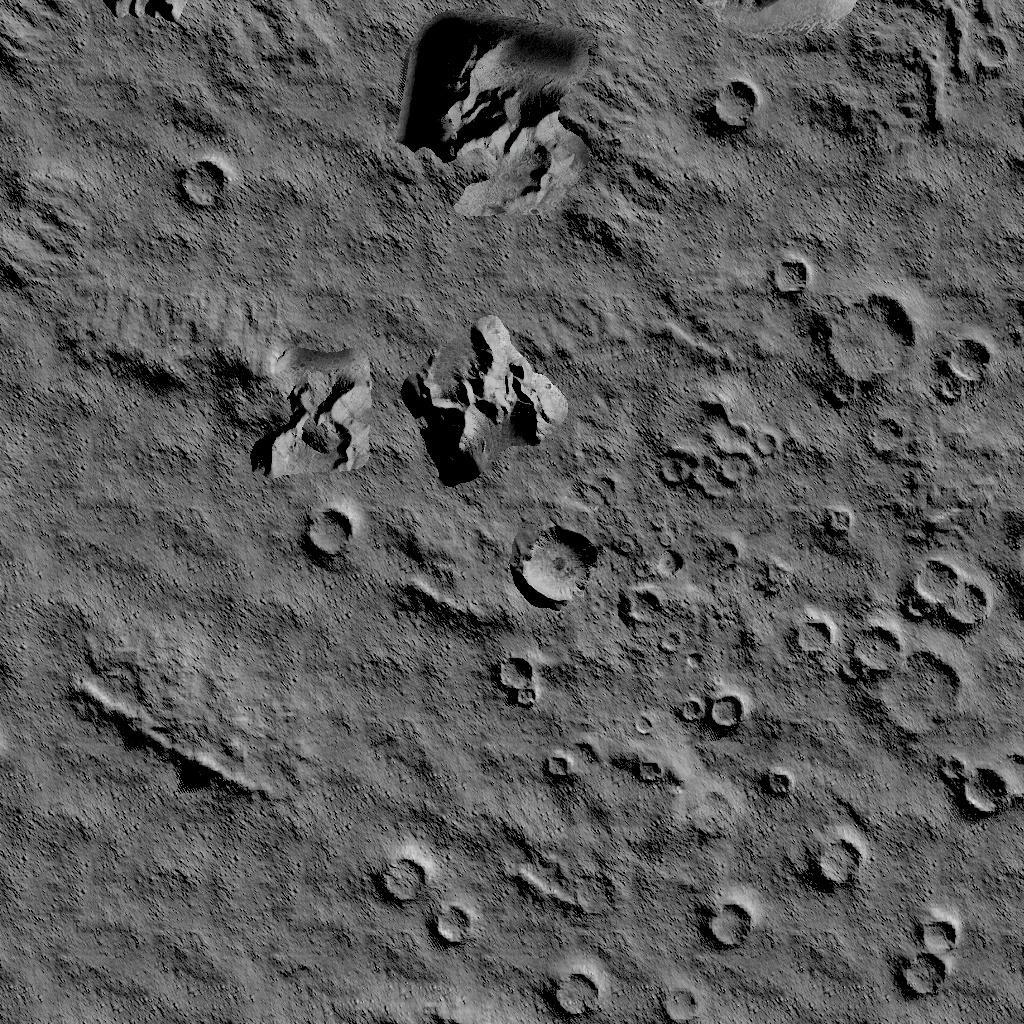Boulders: (392, 16, 664, 222), (397, 310, 569, 486), (69, 650, 271, 796), (38, 296, 236, 394), (586, 756, 744, 859), (253, 346, 374, 478), (0, 0, 192, 77), (400, 518, 496, 624), (208, 2, 334, 82), (593, 300, 752, 360), (484, 818, 564, 900), (0, 244, 67, 284)
Crater: (850, 619, 966, 737), (656, 392, 771, 498), (826, 286, 918, 384), (509, 520, 601, 608), (938, 752, 1024, 817), (897, 909, 955, 997), (904, 559, 992, 612), (300, 496, 363, 565), (542, 962, 614, 1022), (701, 72, 768, 135), (934, 332, 1000, 388), (810, 836, 868, 886), (764, 248, 816, 300), (494, 650, 540, 708), (678, 691, 748, 729), (378, 851, 426, 903), (184, 156, 232, 206), (710, 896, 758, 946), (576, 872, 621, 920), (866, 414, 910, 462), (434, 899, 478, 944), (618, 584, 664, 626), (792, 616, 836, 654), (658, 986, 704, 1022), (649, 545, 689, 580), (824, 502, 860, 536), (759, 766, 800, 795), (710, 536, 740, 570), (542, 752, 572, 780), (630, 712, 654, 738)
Plan surface: (0, 814, 363, 1024), (0, 415, 232, 636), (295, 642, 402, 788)
